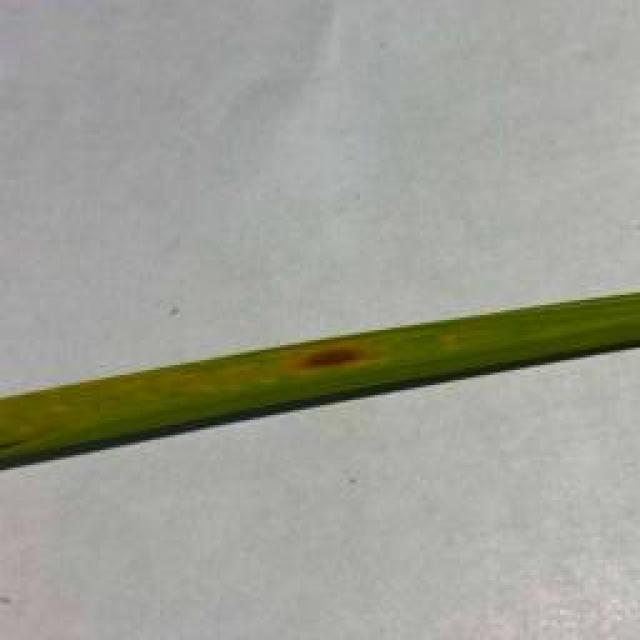Bacterial_Blight: (12, 349, 266, 427)
Brown_Spot: (270, 316, 385, 393)
